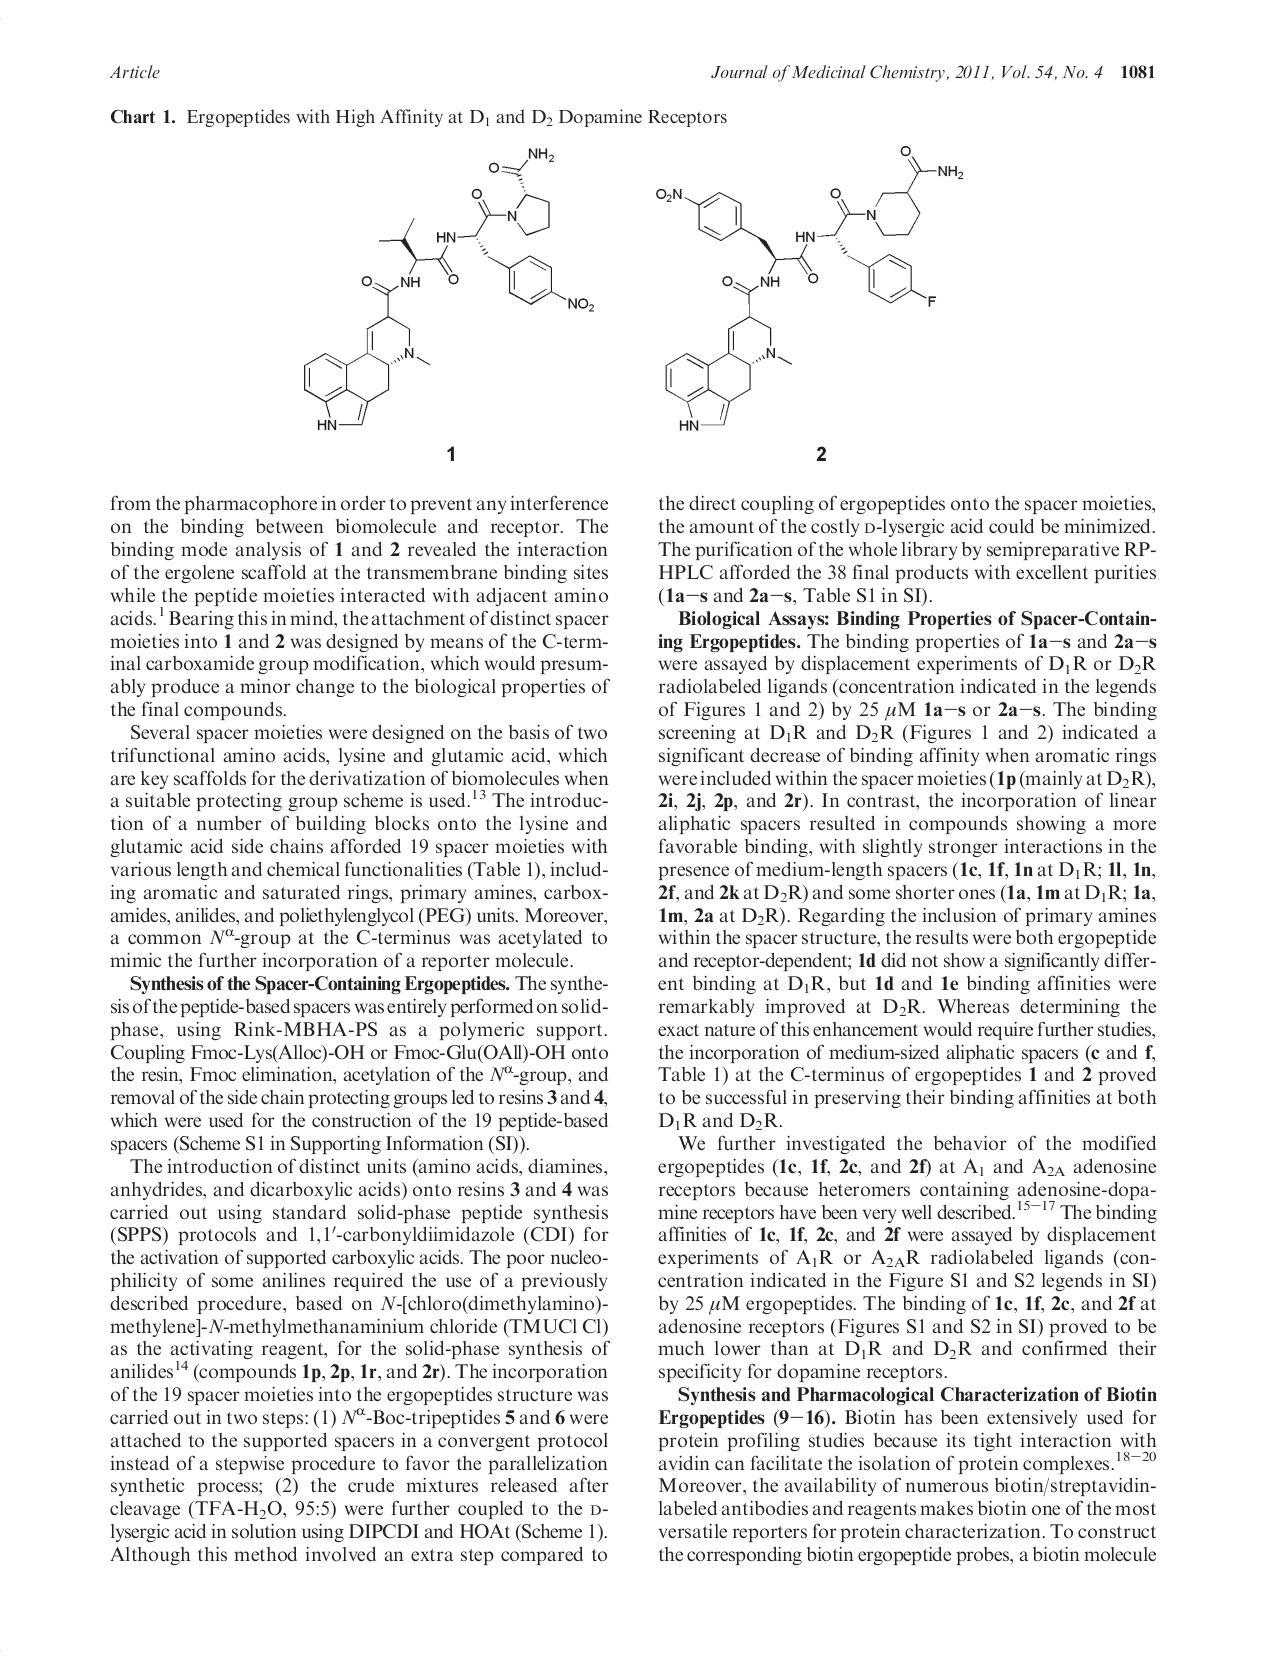exist_molecular: (652, 144, 967, 434), (298, 146, 597, 434)
